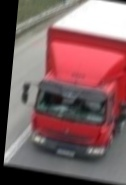truck: (13, 0, 126, 167)
